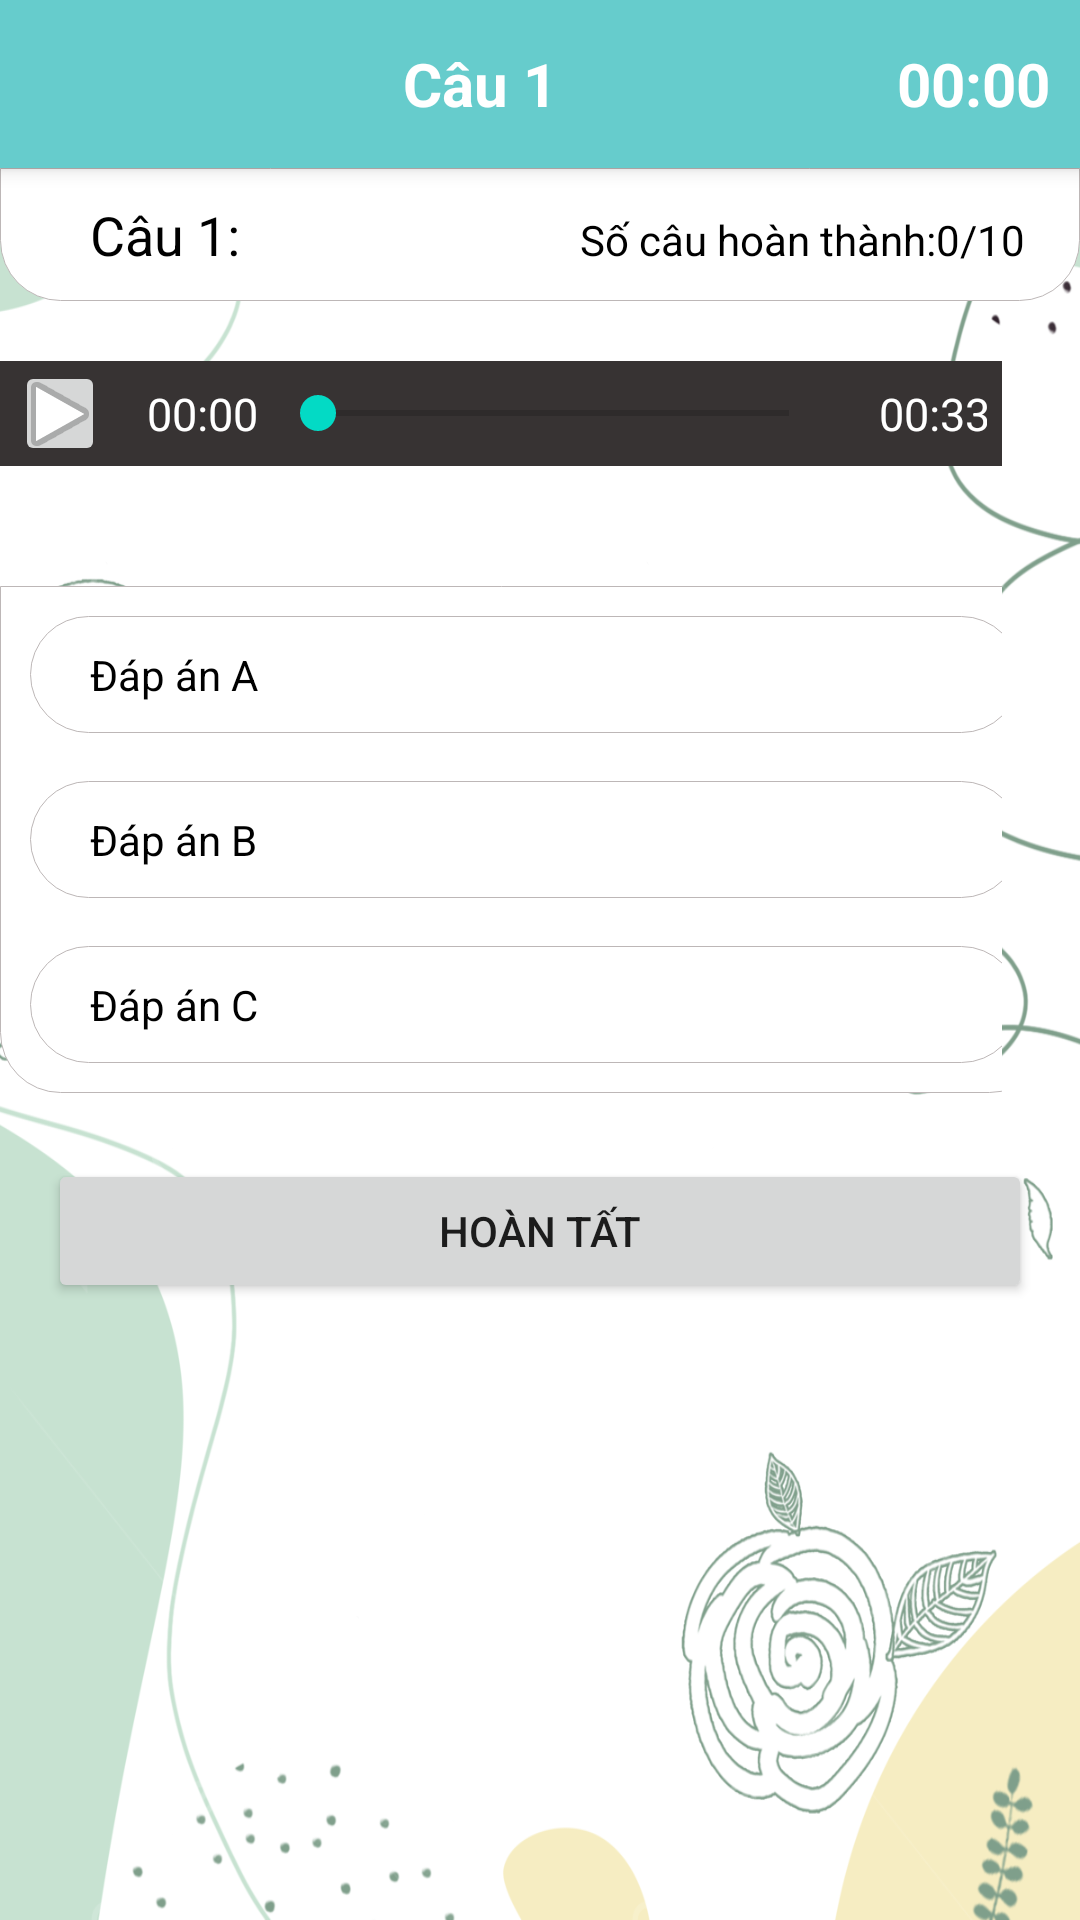

Screen size 1080×1920. Icon name, then its box in pixels as (x1, y1, x2, y2):
play: (27, 379, 93, 448)
